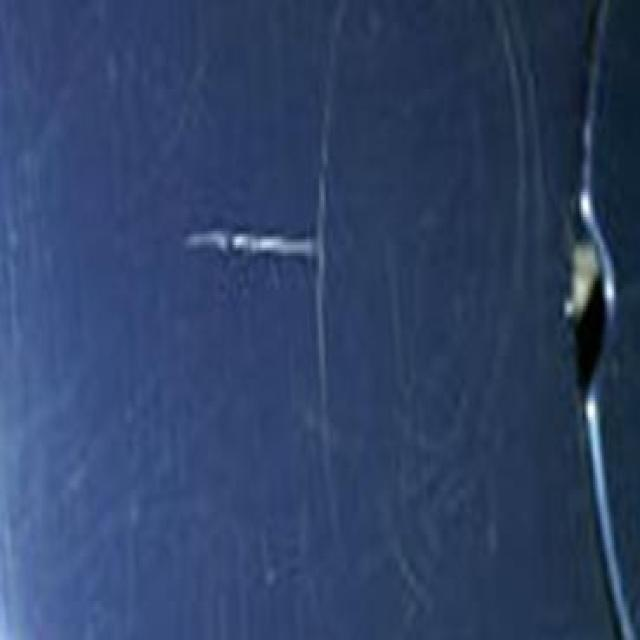scratch: (185, 212, 320, 276)
